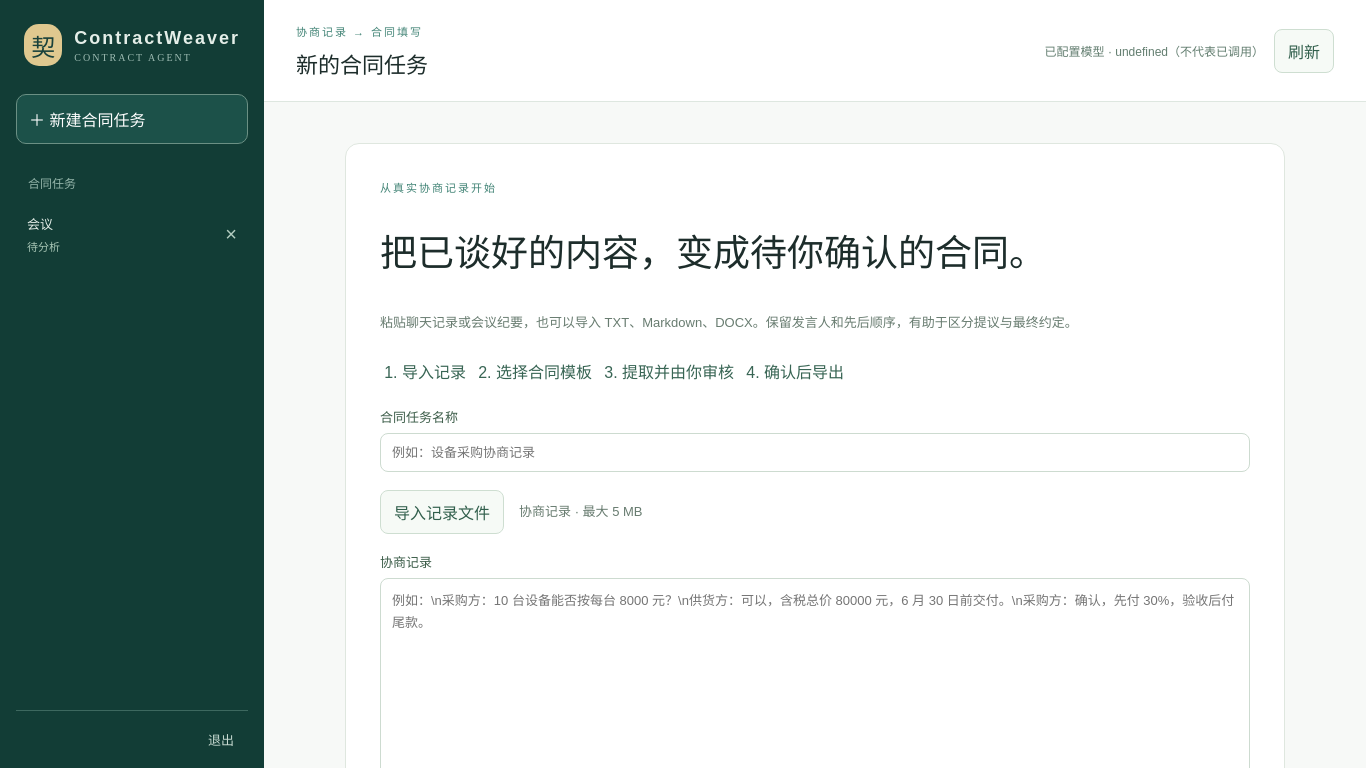
Test case: record-to-contract user flow › opens the manual template library after recommendation fails and offers explicit recovery
The width and height of the screenshot is (1366, 768).
Step 1. Click the button "会议 待分析" → (115,234), box x1=16 y1=203 x2=214 y2=265
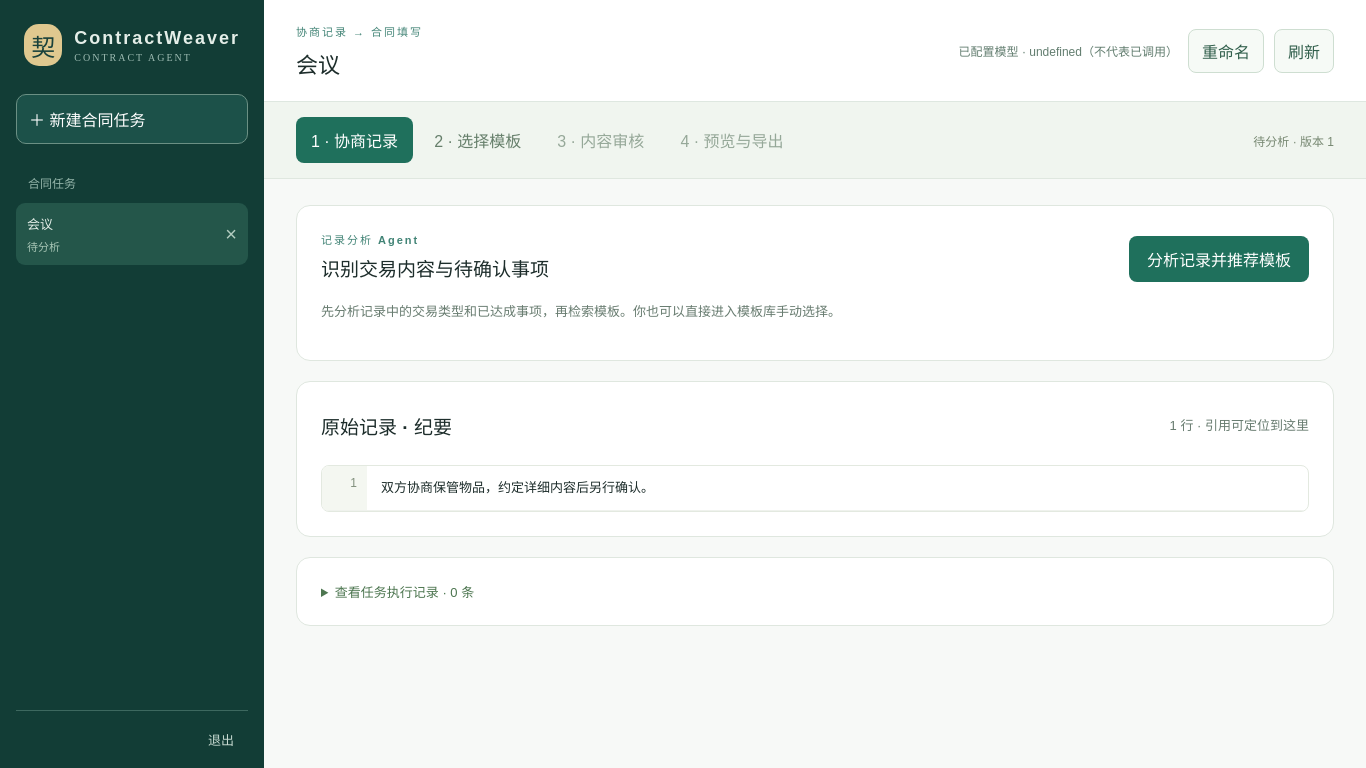
Step 2. Click the button "分析记录并推荐模板" → (1219,258), box x1=1129 y1=236 x2=1309 y2=282
(page scrolled)
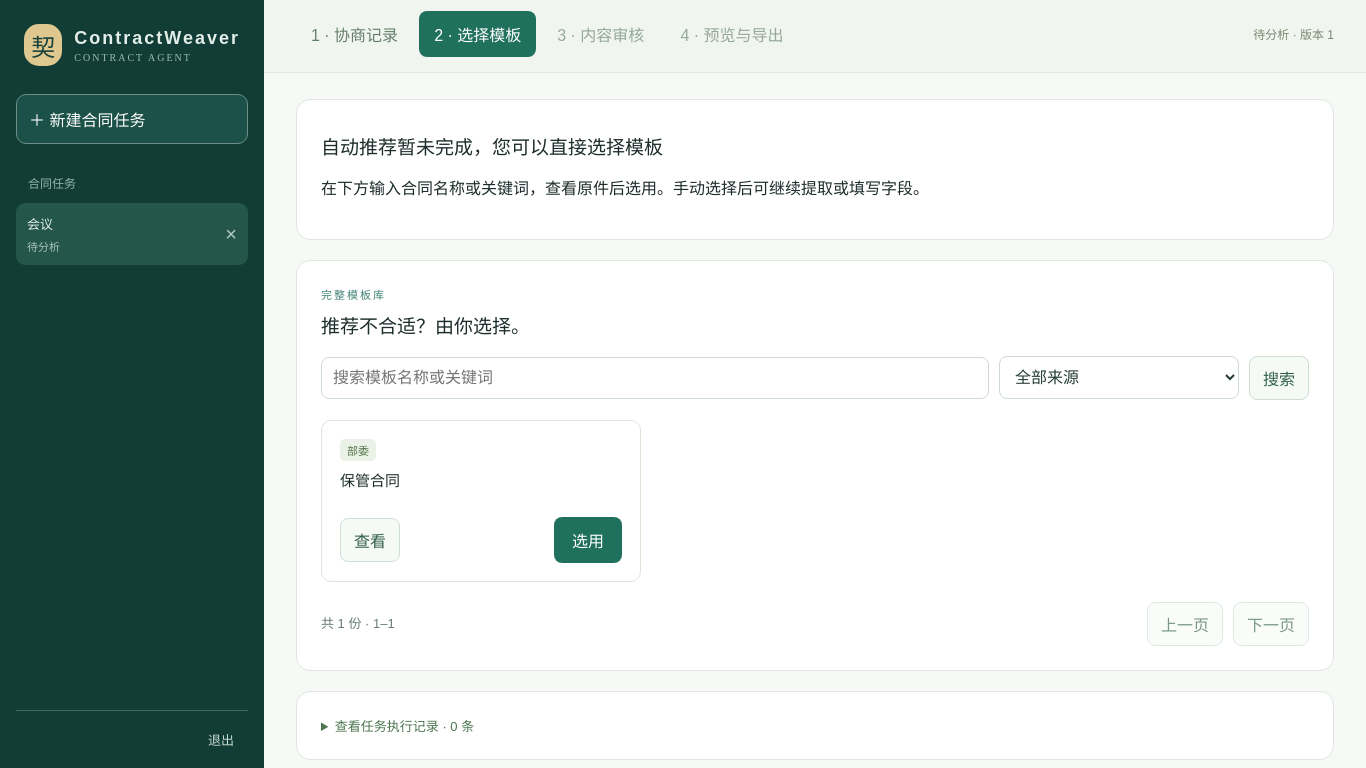
Expected: the button "2 · 选择模板" is shown, x1=419 y1=11 x2=536 y2=57
Expected: the element with class "template-library" shows "保管合同", x1=340 y1=472 x2=400 y2=489
